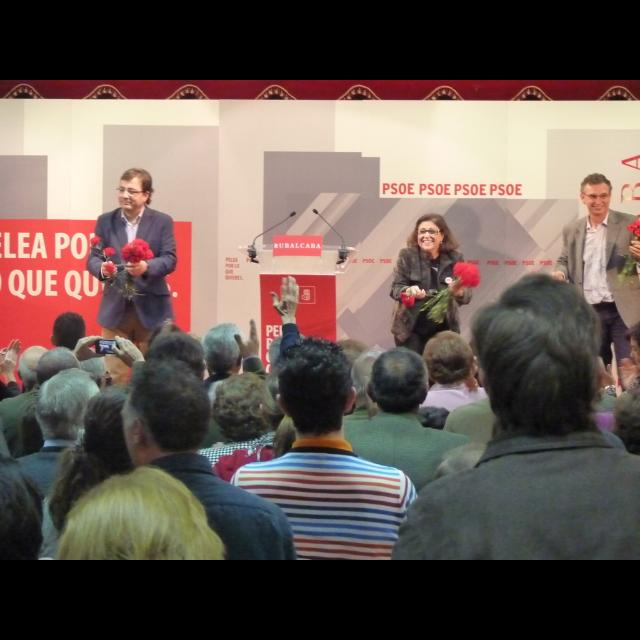Flower: (118, 238, 158, 266), (450, 260, 478, 290), (402, 292, 414, 308), (629, 220, 637, 238), (104, 247, 116, 256), (90, 236, 96, 246)
